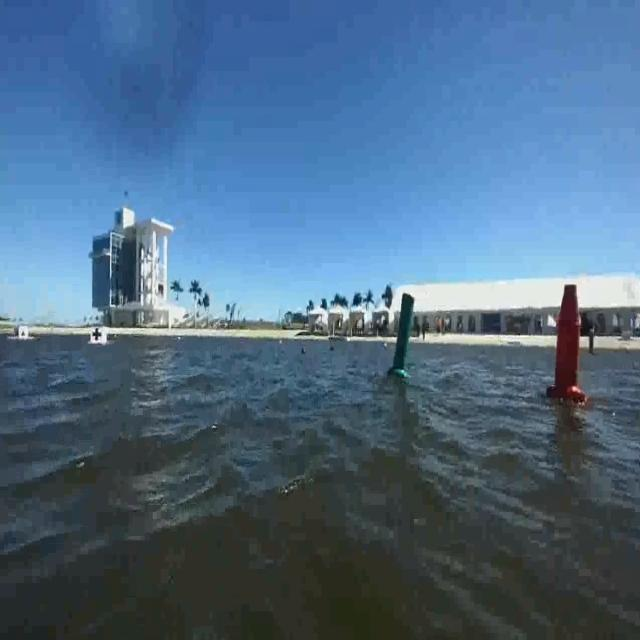green-column-buoy: (389, 290, 417, 380)
red-column-buoy: (547, 284, 588, 410)
